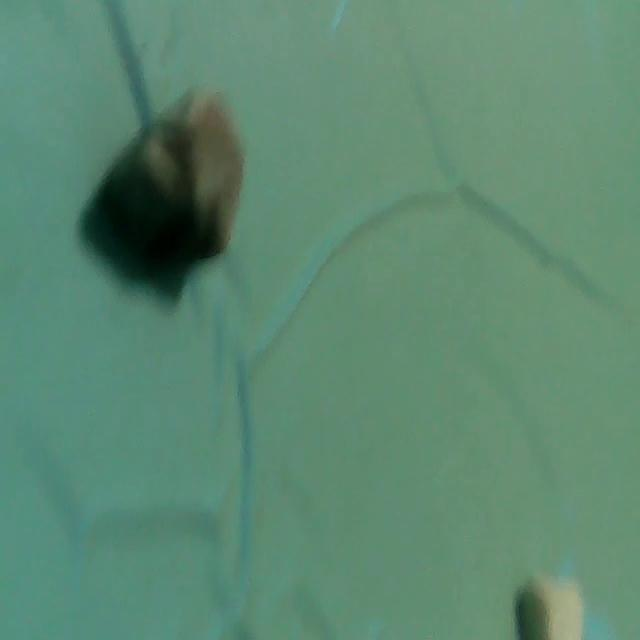rock: (91, 68, 259, 306)
